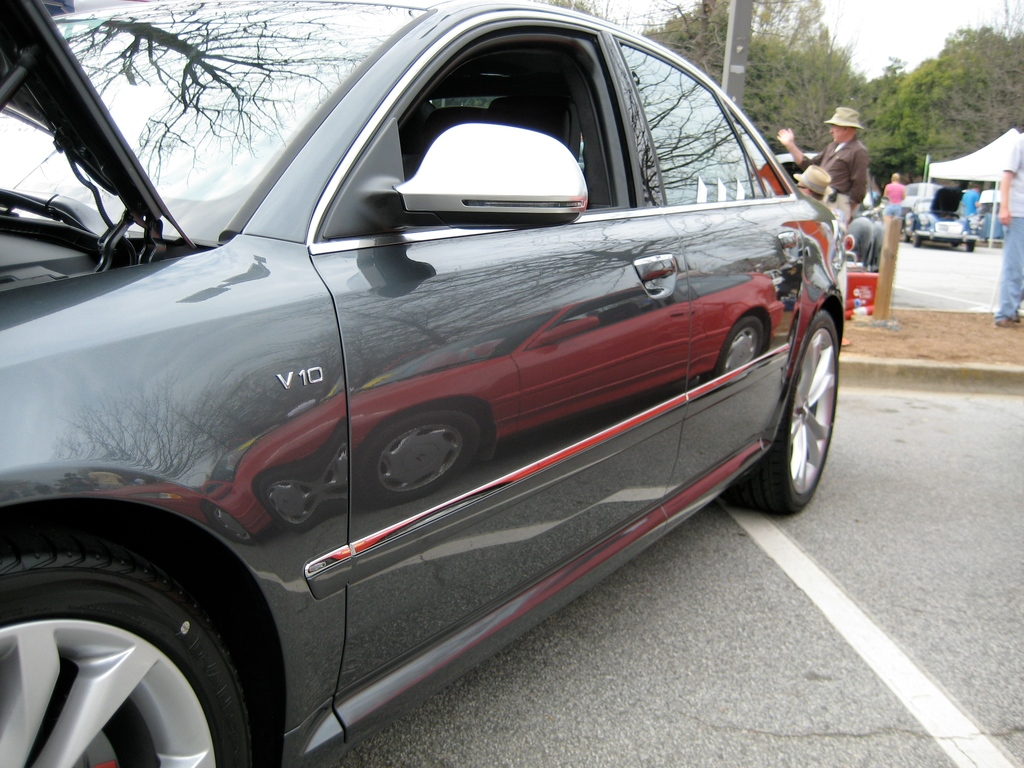Car: (0, 0, 850, 767), (904, 194, 981, 248)
